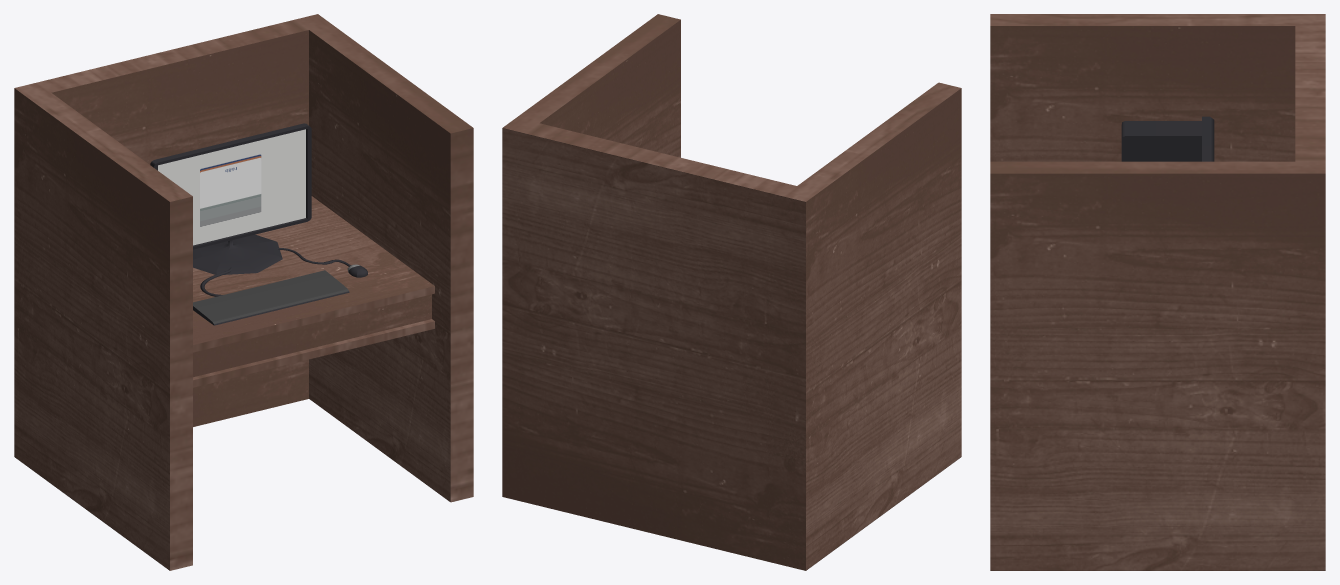
Rendered from multimedia_computer_set.fbx.
The picture shows the model from 3 angles, left to right: view 1: azimuth 30°, elevation 25°; view 2: azimuth 150°, elevation 25°; view 3: azimuth 270°, elevation 25°; orthographic projection. The views are drawn at different scales.
Visible parts, largest first — view 1: multimedia_computer_set; view 2: multimedia_computer_set; view 3: multimedia_computer_set.
Part boxes in pixels (x1=…): multimedia_computer_set: x1=14, y1=14, x2=473, y2=570; multimedia_computer_set: x1=502, y1=14, x2=961, y2=570; multimedia_computer_set: x1=990, y1=14, x2=1325, y2=570.
Size of the model in its own units: 0.00861 by 0.01 by 0.00765.
Materials: 2 (2 with a texture image).
